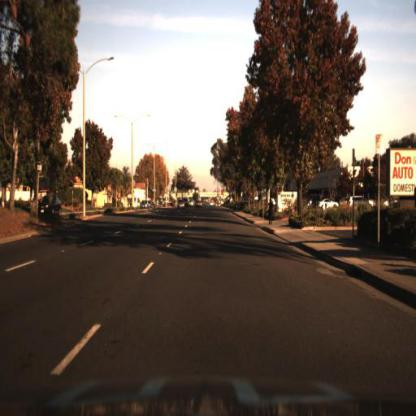car: (348, 190, 377, 213), (266, 197, 276, 227), (319, 197, 342, 210), (177, 196, 190, 212), (195, 196, 207, 213), (139, 196, 151, 212)
pedestrian: (266, 198, 278, 227)
